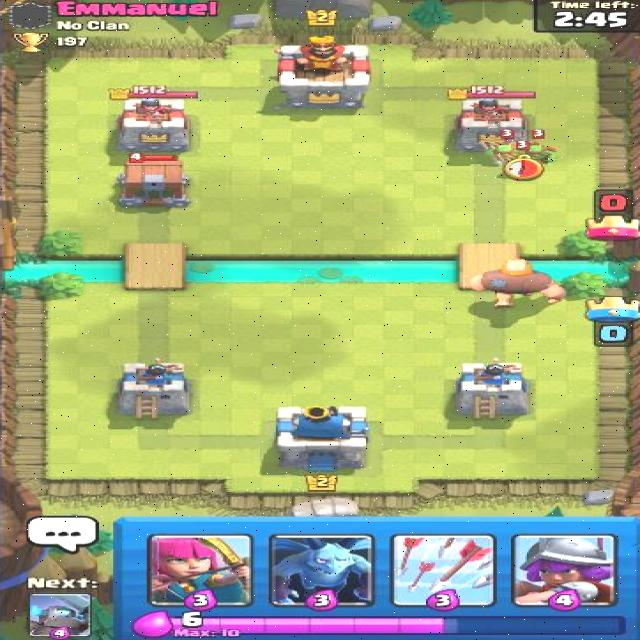Enemy-GoblinCage: (113, 151, 195, 211)
Enemy-SpearGoblin: (504, 140, 546, 182), (488, 128, 527, 168), (520, 128, 558, 166)
Player-Giant: (465, 257, 569, 309)
